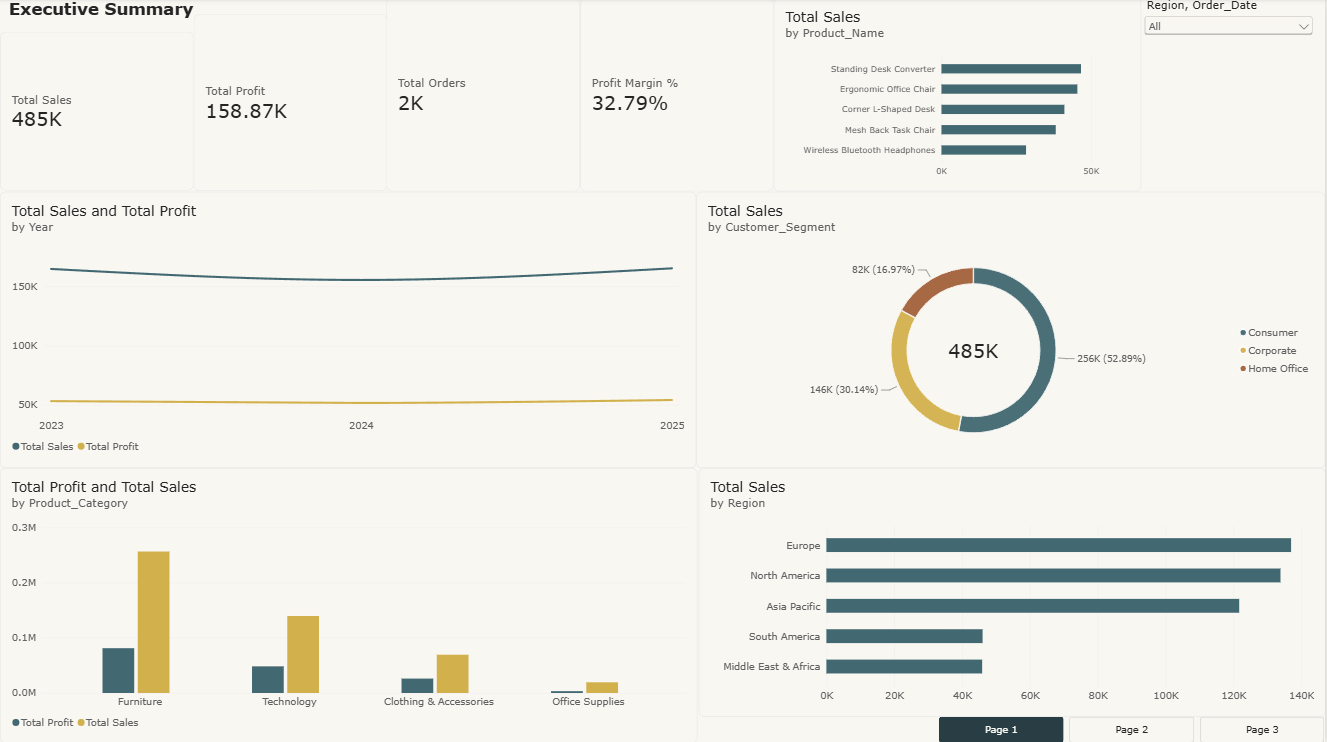

The page's visual inventory and layout, read from the dashboard file:
{"tool":"powerbi","page":{"name":"Page 1","canvas":[1920,1080],"ordinal":0},"visuals":[{"type":"cardVisual","fields":{"Data":["global_ecommerce_sales.Total Orders"]},"box":[559.9,0,280,280],"z":0},{"type":"cardVisual","fields":{"Data":["global_ecommerce_sales.Total Sales"]},"box":[0,49.5,280.2,230.8],"z":1000},{"type":"cardVisual","fields":{"Data":["global_ecommerce_sales.Total Profit"]},"box":[280.5,23.5,280.5,257],"z":2000},{"type":"cardVisual","fields":{"Data":["global_ecommerce_sales.Profit Margin %"]},"box":[839.8,0,280,280],"z":3000},{"type":"lineChart","fields":{"Category":["global_ecommerce_sales.Order_Date.Variation.Date Hierarchy.Year","global_ecommerce_sales.Order_Date.Variation.Date Hierarchy.Quarter","global_ecommerce_sales.Order_Date.Variation.Date Hierarchy.Month","global_ecommerce_sales.Order_Date.Variation.Date Hierarchy.Day"],"Y":["global_ecommerce_sales.Total Sales","global_ecommerce_sales.Total Profit"]},"box":[0,280.5,1008,399.9],"z":4000},{"type":"lineClusteredColumnComboChart","fields":{"Category":["global_ecommerce_sales.Product_Category"],"Y":["global_ecommerce_sales.Total Profit","global_ecommerce_sales.Total Sales"]},"box":[0,680.4,1009.8,399.9],"z":5000},{"type":"donutChart","fields":{"Category":["global_ecommerce_sales.Customer_Segment"],"Y":["global_ecommerce_sales.Total Sales"]},"box":[1008,280.5,912.1,399.9],"z":6000},{"type":"slicer","fields":{"Values":["global_ecommerce_sales.Region","global_ecommerce_sales.Order_Date"]},"box":[1652.2,0,253.4,280.5],"z":7000},{"type":"clusteredBarChart","fields":{"Category":["global_ecommerce_sales.Region"],"Y":["global_ecommerce_sales.Total Sales"]},"box":[1011.6,680.4,908.4,360.1],"z":8000},{"type":"barChart","fields":{"Category":["global_ecommerce_sales.Product_Name"],"Y":["global_ecommerce_sales.Total Sales"]},"box":[1120.2,0,532,280],"z":9000},{"type":"pageNavigator","box":[1359.1,1040.6,561,39.8],"z":11000},{"type":"textbox","box":[12.7,0,284.1,48.9],"z":11001}]}

Visuals, with their boxes in screenshot pixels (x1, y1, x2, y2), scaled from the page's 1920x1080 canvas onto the 1327x742 screenshot:
cardVisual - global_ecommerce_sales.Total Orders: [387, 0, 580, 192]
cardVisual - global_ecommerce_sales.Total Sales: [0, 34, 194, 193]
cardVisual - global_ecommerce_sales.Total Profit: [194, 16, 388, 193]
cardVisual - global_ecommerce_sales.Profit Margin %: [580, 0, 774, 192]
lineChart - global_ecommerce_sales.Order_Date.Variation.Date Hierarchy.Year x global_ecommerce_sales.Order_Date.Variation.Date Hierarchy.Quarter: [0, 193, 697, 467]
lineClusteredColumnComboChart - global_ecommerce_sales.Product_Category x global_ecommerce_sales.Total Profit: [0, 467, 698, 741]
donutChart - global_ecommerce_sales.Customer_Segment x global_ecommerce_sales.Total Sales: [697, 193, 1326, 467]
slicer - global_ecommerce_sales.Region x global_ecommerce_sales.Order_Date: [1142, 0, 1317, 193]
clusteredBarChart - global_ecommerce_sales.Region x global_ecommerce_sales.Total Sales: [699, 467, 1326, 715]
barChart - global_ecommerce_sales.Product_Name x global_ecommerce_sales.Total Sales: [774, 0, 1142, 192]
pageNavigator: [939, 715, 1326, 741]
textbox: [9, 0, 205, 34]
